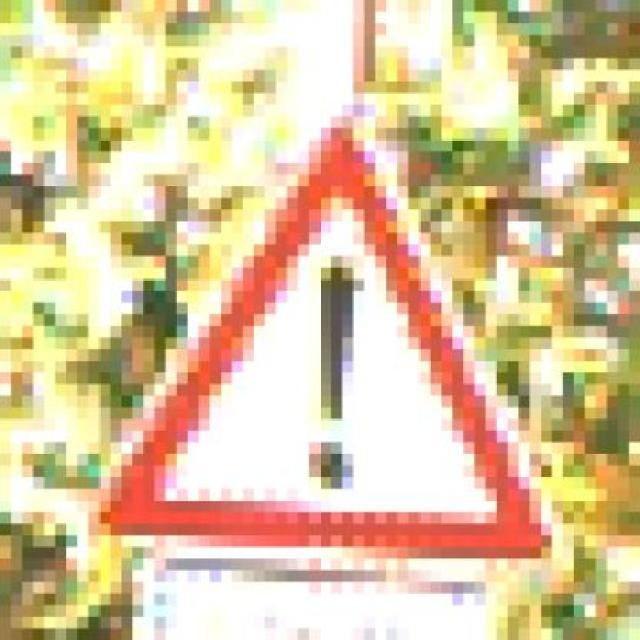Attention Please-: (66, 93, 552, 582)
